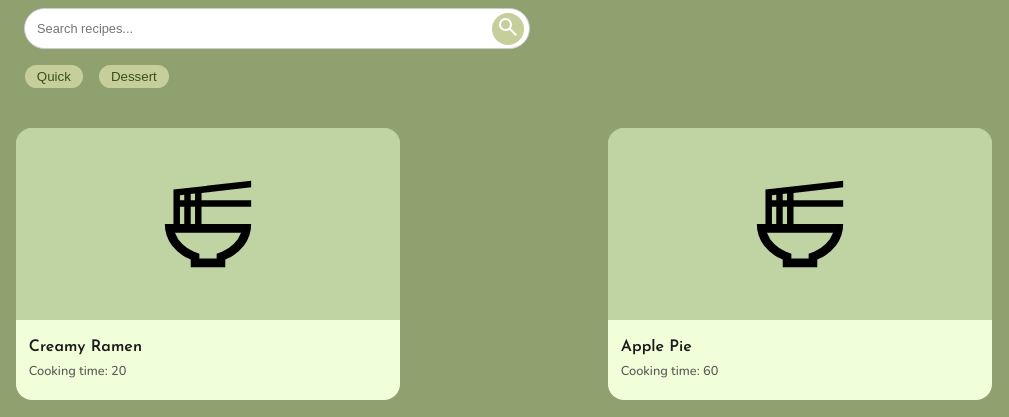
Test: Mainpage › shows all matching recipes again when a selected tag is toggled off
Click the button "Quick". click: (54, 76)
box: [25,65,83,88]
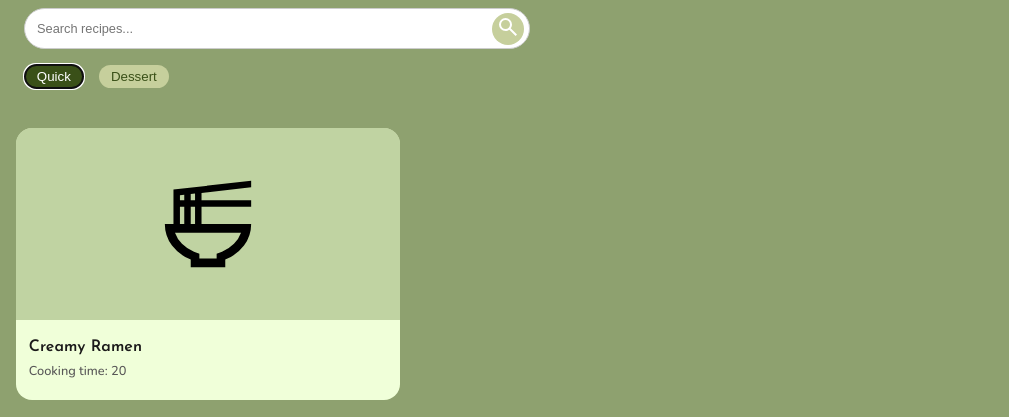
Expected: the heading "Creamy Ramen" is shown, [29,339,142,355]
Expected: the link "Apple Pie" is gone
Click the button "Quick". click: (54, 76)
box: [25,65,83,88]
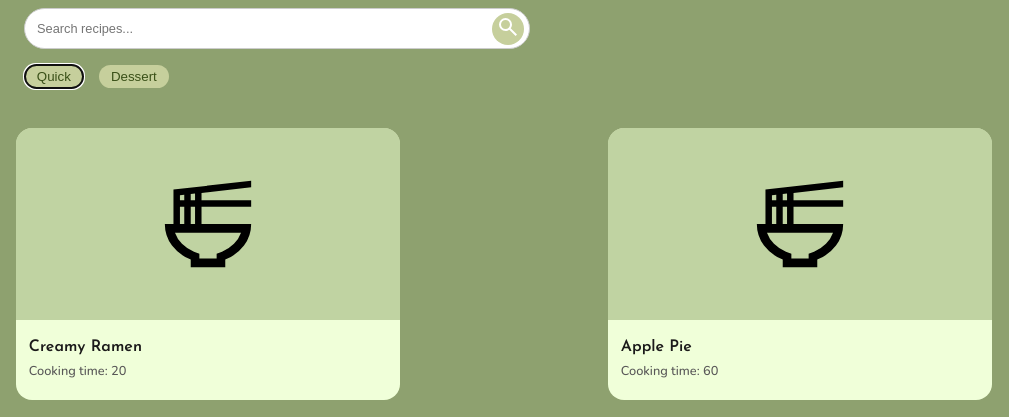
Expected: the heading "Creamy Ramen" is shown, [29,339,142,355]
Expected: the heading "Apple Pie" is shown, [621,339,692,355]
